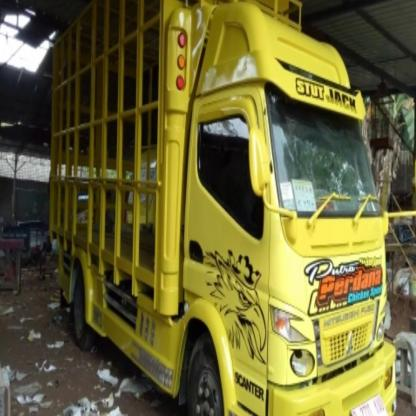truck: (46, 13, 394, 416)
